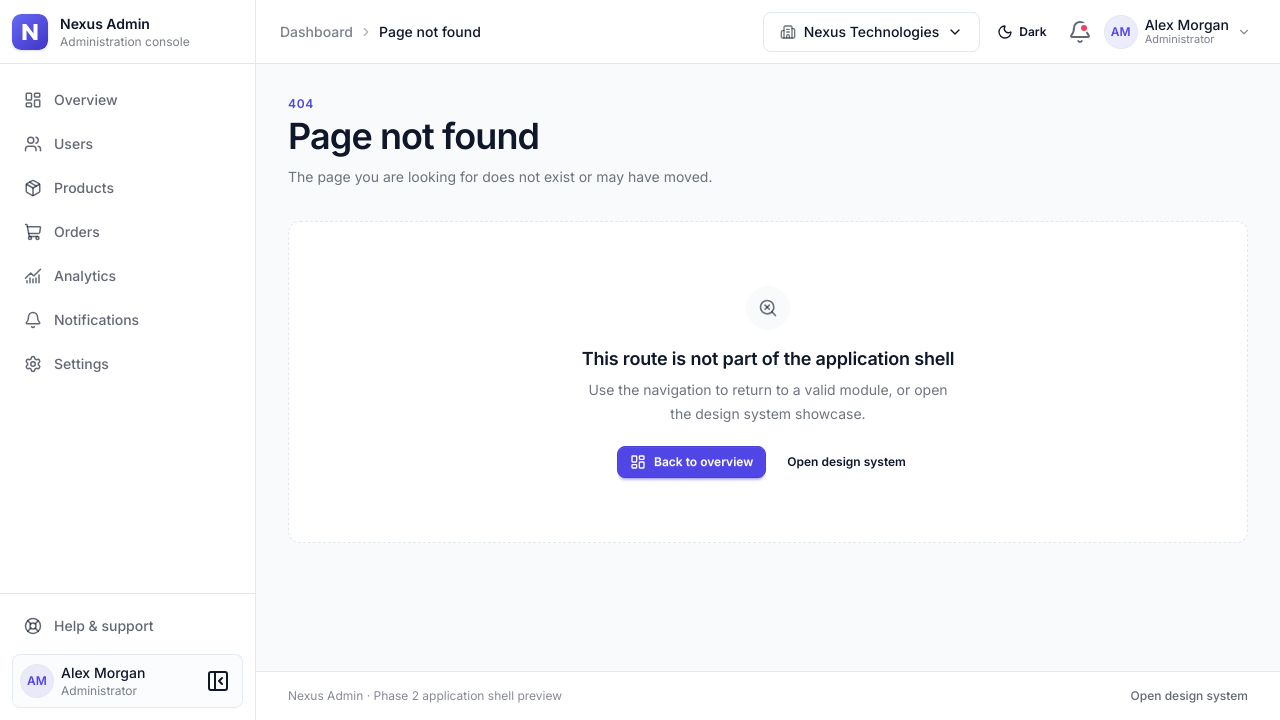
Test case: DashboardLayout › renders a not-found page for unknown routes
Check: the heading "Page not found" is shown, box top-left (288, 114), bottom-right (539, 158)
Click the link "Back to overview" at (692, 462), box top-left (617, 446), bottom-right (766, 478)
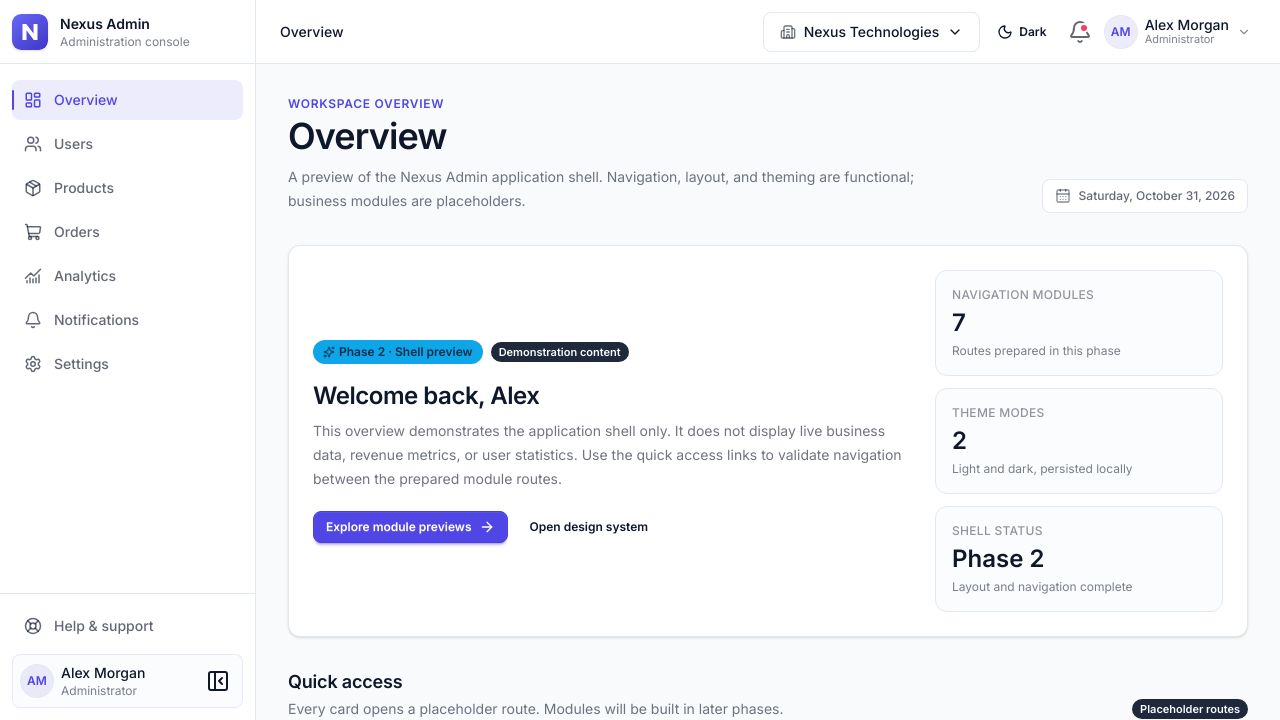
Check: the heading "Overview" is shown, box top-left (288, 114), bottom-right (447, 158)
